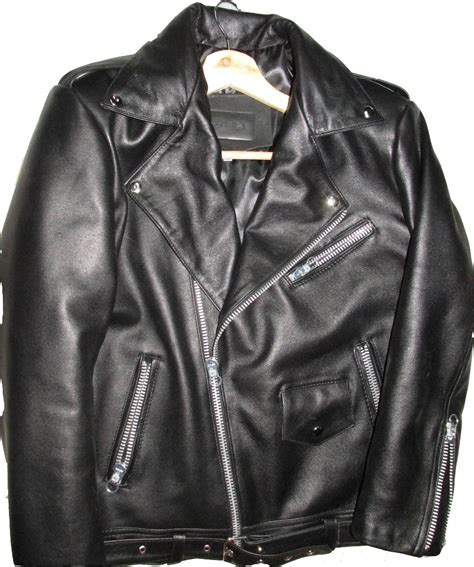cuero: (2, 3, 474, 566)
